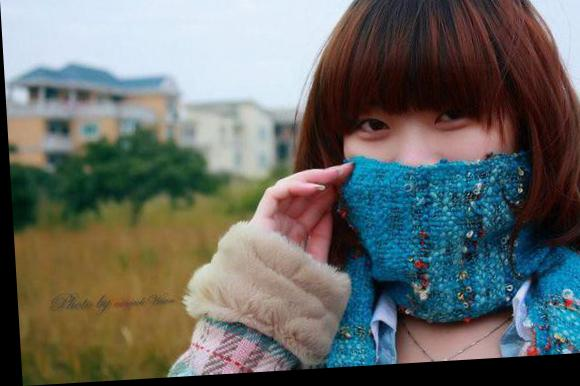WRONG: (334, 75, 528, 282)
